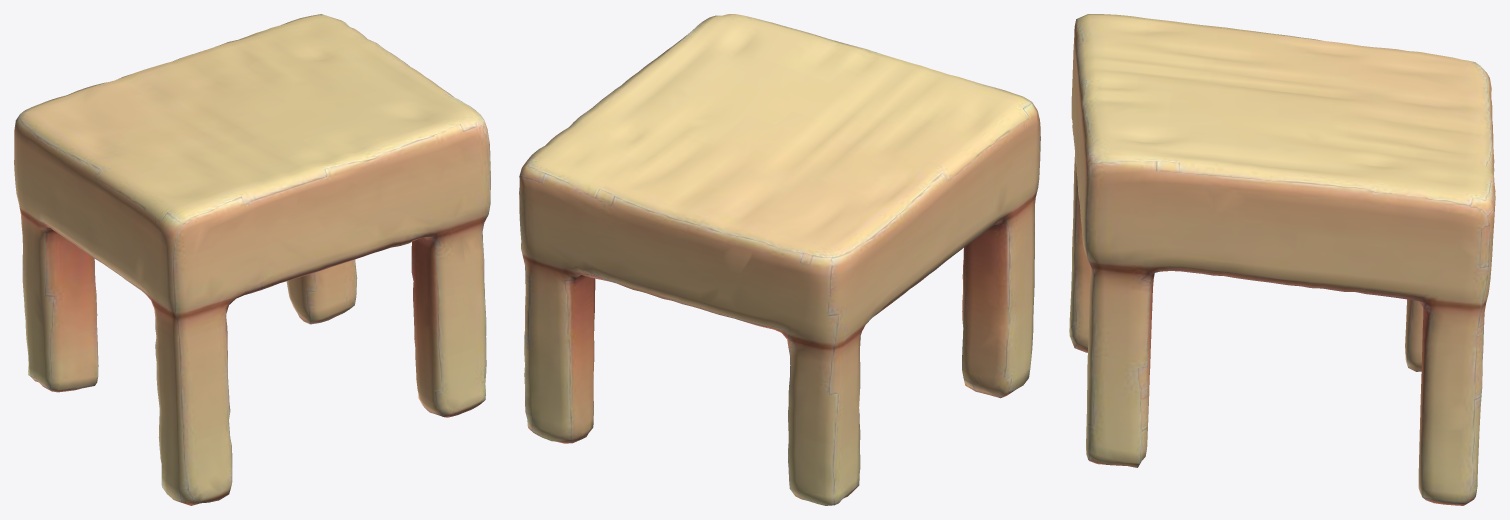
Rendered from Wood_nightstand.glb.
3 views of the same model, side by side, from view 1: azimuth 30°, elevation 25°; view 2: azimuth 150°, elevation 25°; view 3: azimuth 270°, elevation 25° (orthographic). The views are drawn at different scales.
Parts seen in each view (by area): view 1: RETOPO; view 2: RETOPO; view 3: RETOPO.
Part boxes in pixels (bbox=[...]): RETOPO: bbox=[14, 14, 490, 505]; RETOPO: bbox=[519, 14, 1040, 505]; RETOPO: bbox=[1069, 14, 1495, 505].
Size of the model in its own units: 0.9945 by 0.8668 by 0.9697.
Materials: 1 (1 with a texture image).
